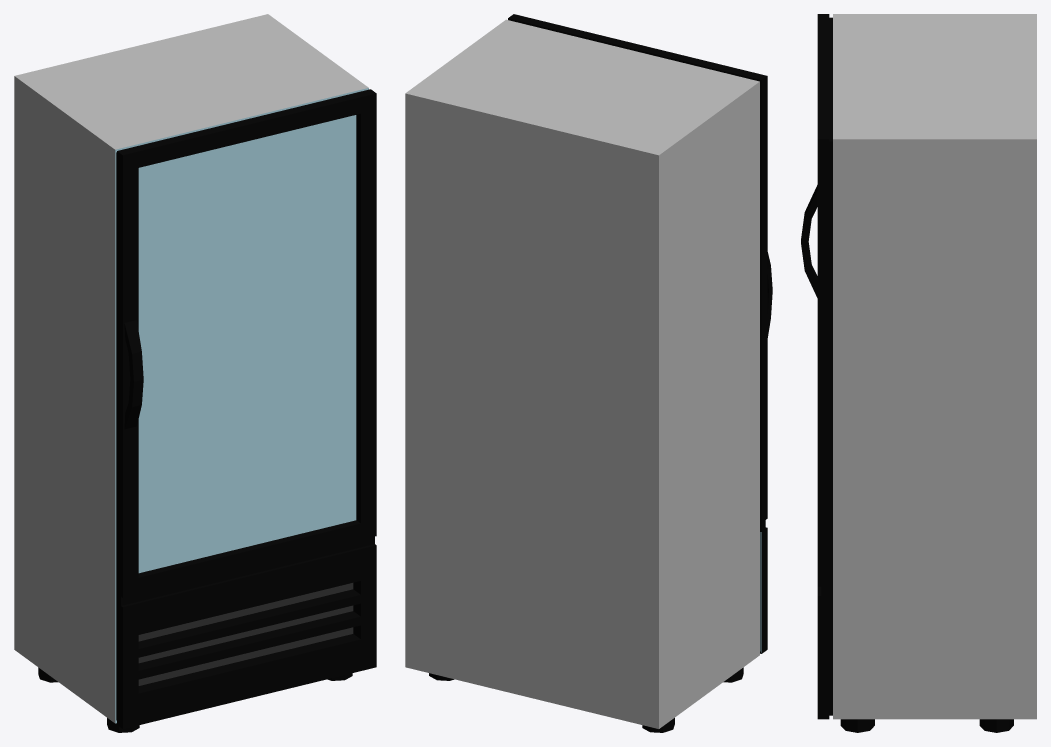
File: Heladera_Exhibicion.fbx
3 views of the same model, side by side, from view 1: azimuth 30°, elevation 25°; view 2: azimuth 150°, elevation 25°; view 3: azimuth 270°, elevation 25° (orthographic).
Visible parts, largest first — view 1: Heladera; view 2: Heladera; view 3: Heladera.
Part boxes in pixels (left/top/right/bottom): Heladera: left=14, top=14, right=376, bottom=732; Heladera: left=405, top=14, right=772, bottom=732; Heladera: left=801, top=14, right=1036, bottom=732.
Size of the model in its own units: 81 by 180 by 64.5.
